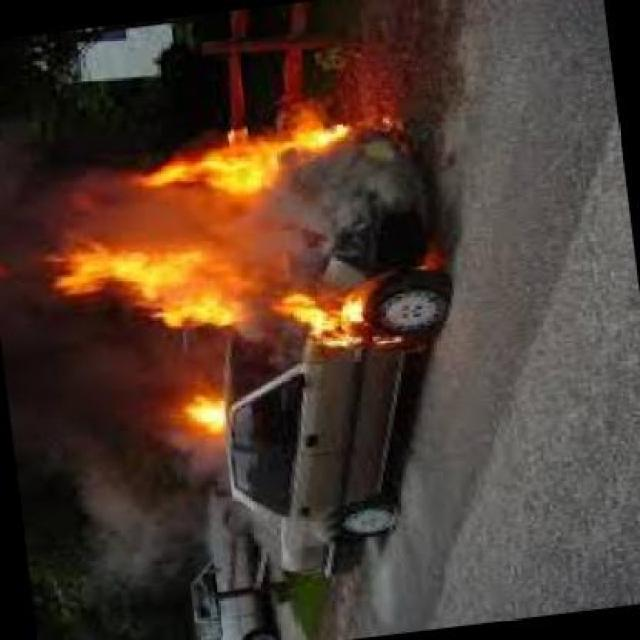Fire: (52, 239, 236, 339), (133, 118, 368, 192), (277, 290, 375, 358), (176, 386, 235, 439)
Smoke: (7, 348, 181, 590), (14, 176, 125, 236), (558, 476, 567, 480)
